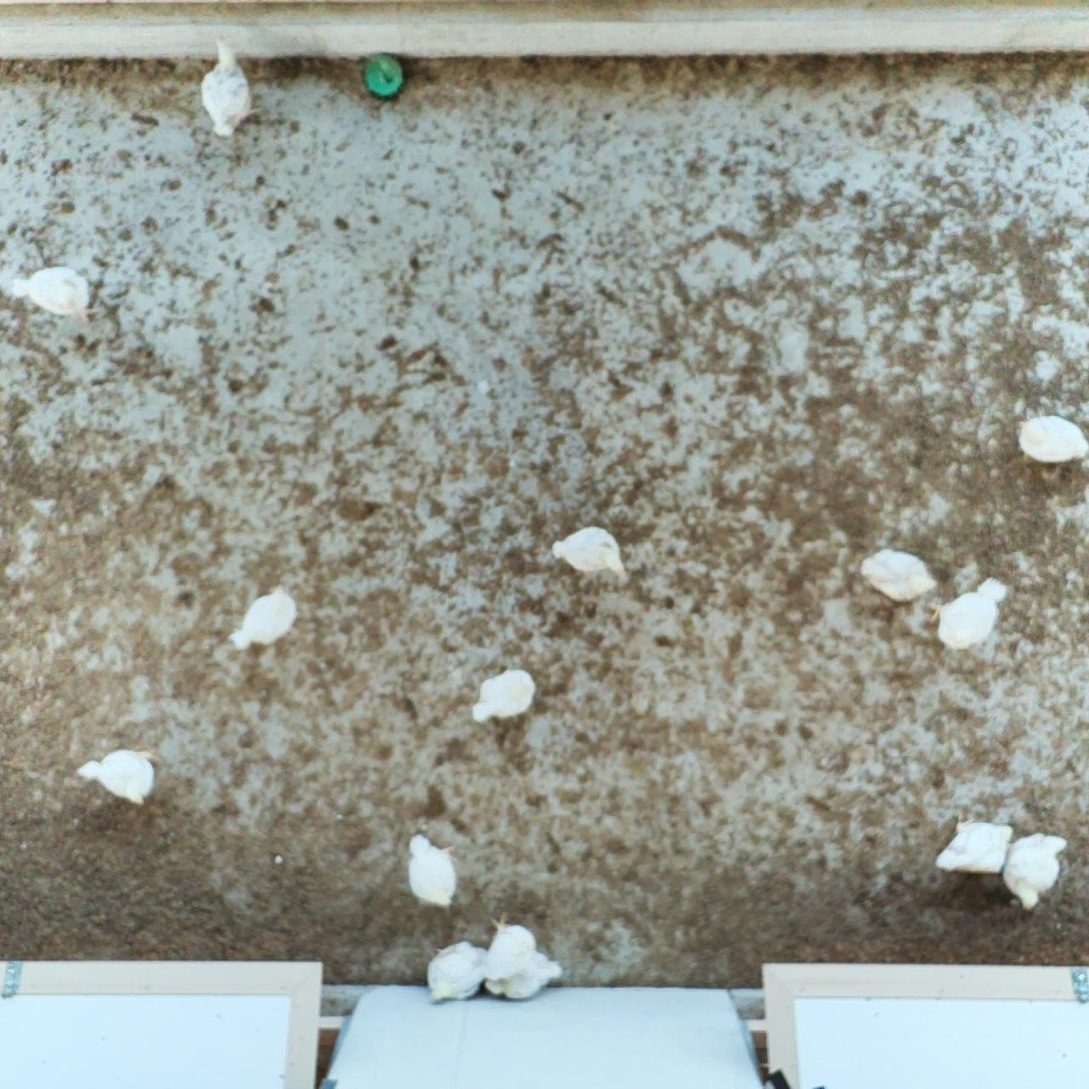chicken: (204, 36, 266, 136), (14, 266, 104, 329), (934, 578, 1009, 647), (1002, 831, 1068, 909), (79, 748, 164, 804), (232, 582, 300, 648), (859, 547, 939, 603), (934, 817, 1011, 875), (409, 829, 464, 908), (550, 525, 629, 576), (428, 938, 486, 1007), (484, 951, 564, 999), (484, 914, 541, 975), (473, 670, 536, 723), (1018, 415, 1089, 462)
